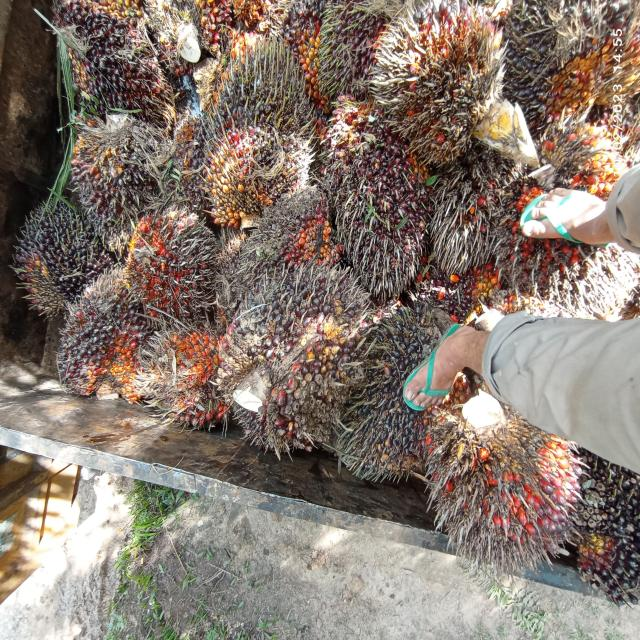fraksi 00: (213, 252, 369, 469), (335, 286, 460, 515), (198, 29, 329, 227), (324, 118, 446, 310), (45, 90, 186, 248), (49, 252, 151, 411), (225, 177, 347, 297), (61, 0, 176, 111), (6, 198, 107, 318)
fraksi 3: (428, 358, 580, 576)
fraksi 4: (363, 0, 538, 183), (125, 198, 222, 331), (154, 314, 236, 426)
